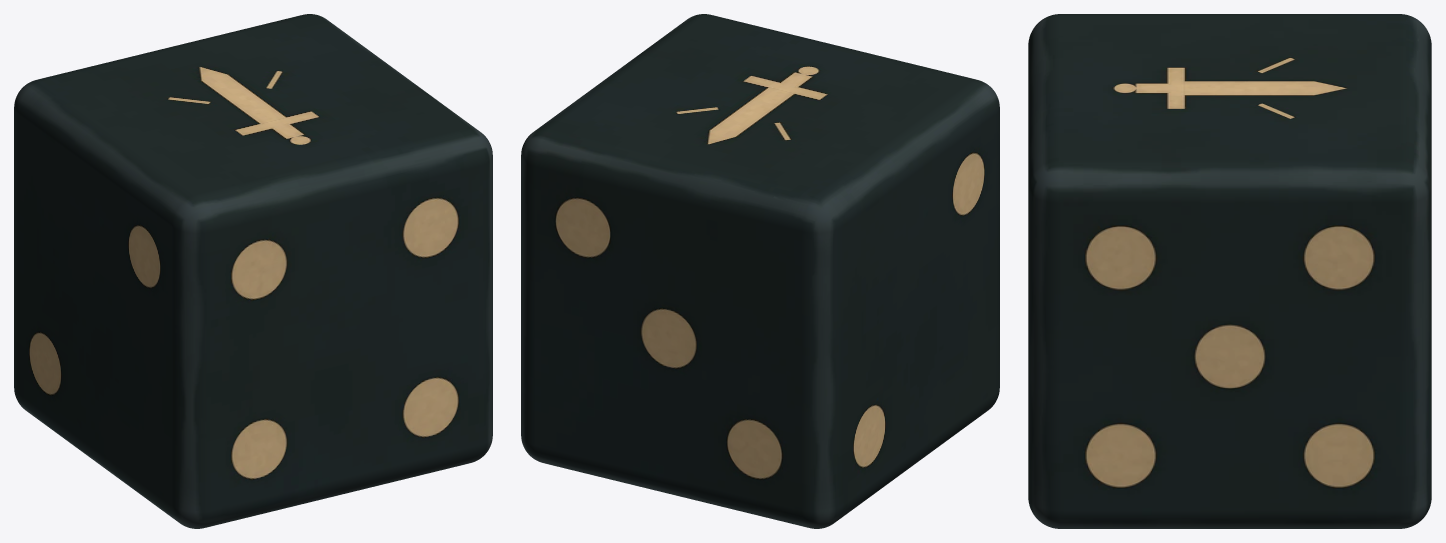
The model's file is dice_6.gltf.
The picture shows the model from 3 angles, left to right: view 1: azimuth 30°, elevation 25°; view 2: azimuth 150°, elevation 25°; view 3: azimuth 270°, elevation 25°; orthographic projection. The views are drawn at different scales.
Visible parts, largest first — view 1: dice_6; view 2: dice_6; view 3: dice_6.
Boxes of the visible parts, left/top/right/bottom form: dice_6: left=14, top=14, right=492, bottom=528; dice_6: left=521, top=14, right=999, bottom=528; dice_6: left=1028, top=14, right=1431, bottom=528.
Size of the model in its own units: 104 by 104 by 104.
Materials: 1 (1 with a texture image).
